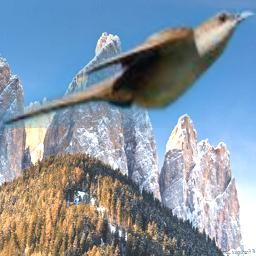Cuckoo: (0, 8, 256, 128)
